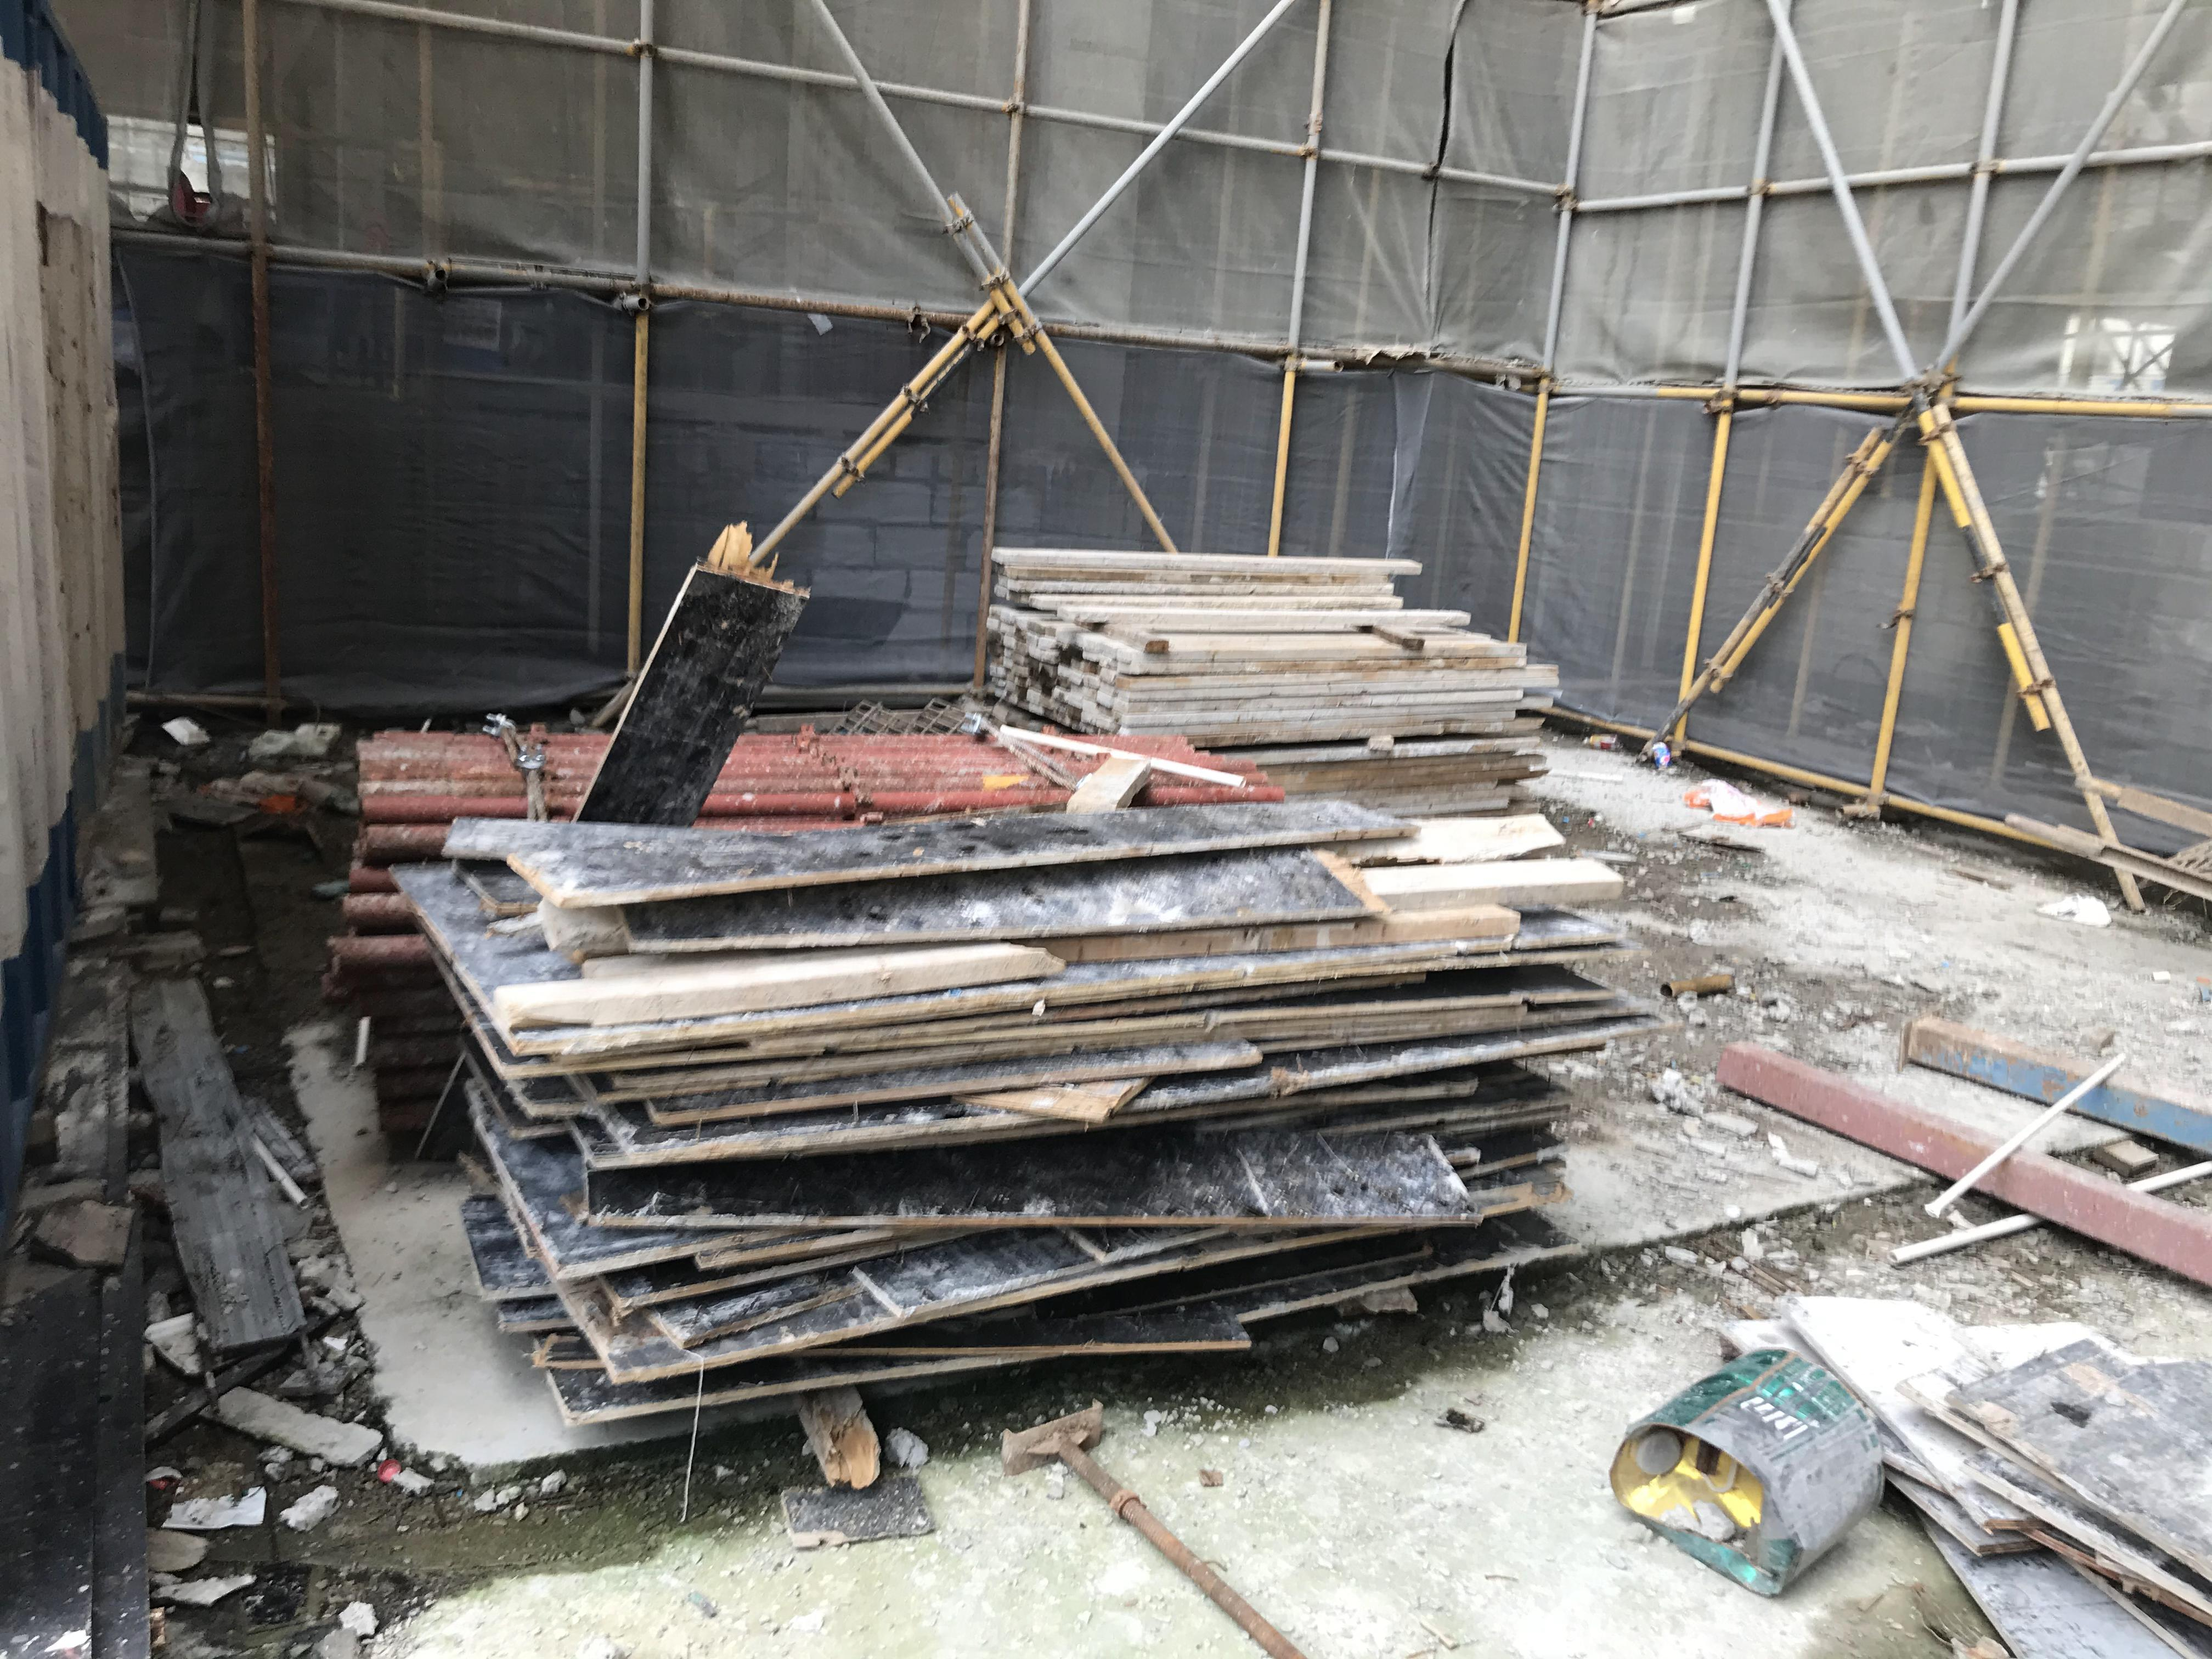board: (425, 786, 1573, 1371), (1893, 1316, 2212, 1643)
wood: (981, 542, 1569, 812)
